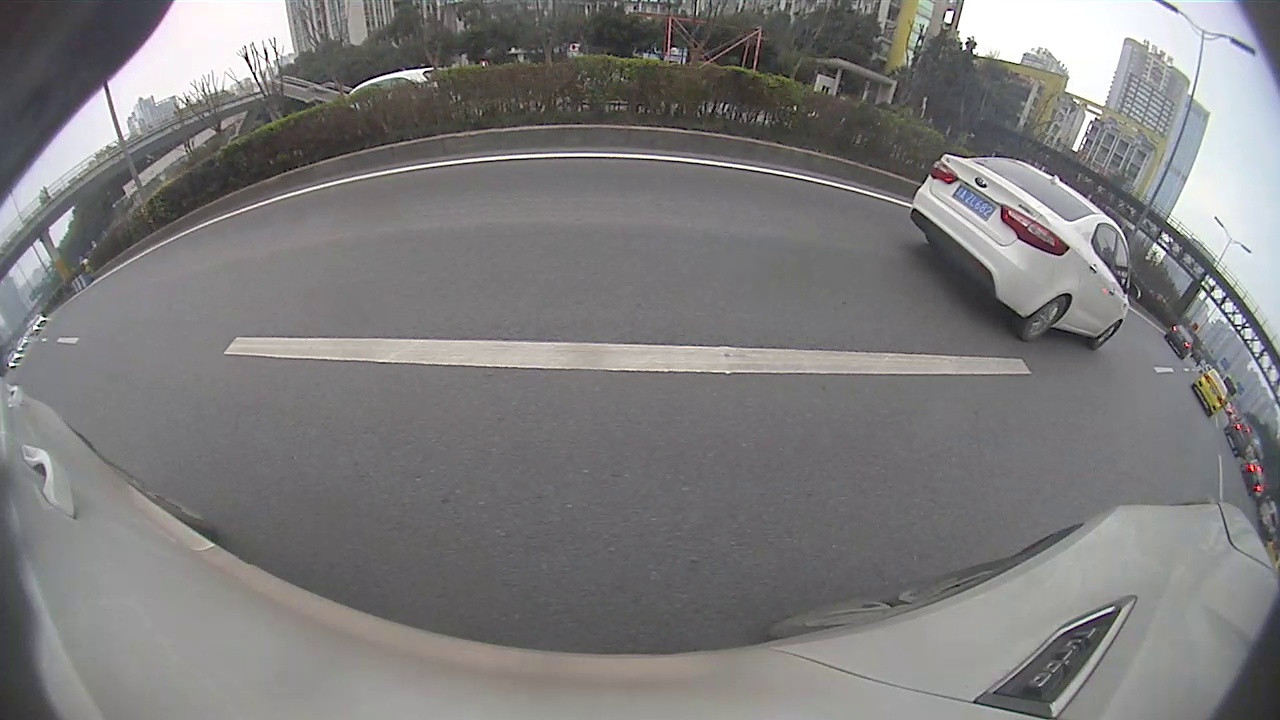car: (909, 150, 1143, 353), (1188, 364, 1232, 420), (1163, 322, 1197, 360)
front: (1083, 320, 1120, 352)
rear: (1011, 292, 1067, 345)
